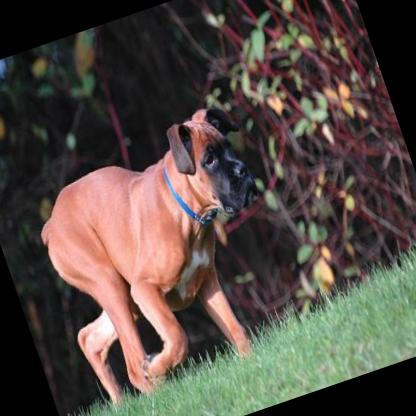boxer: (15, 95, 310, 412)
